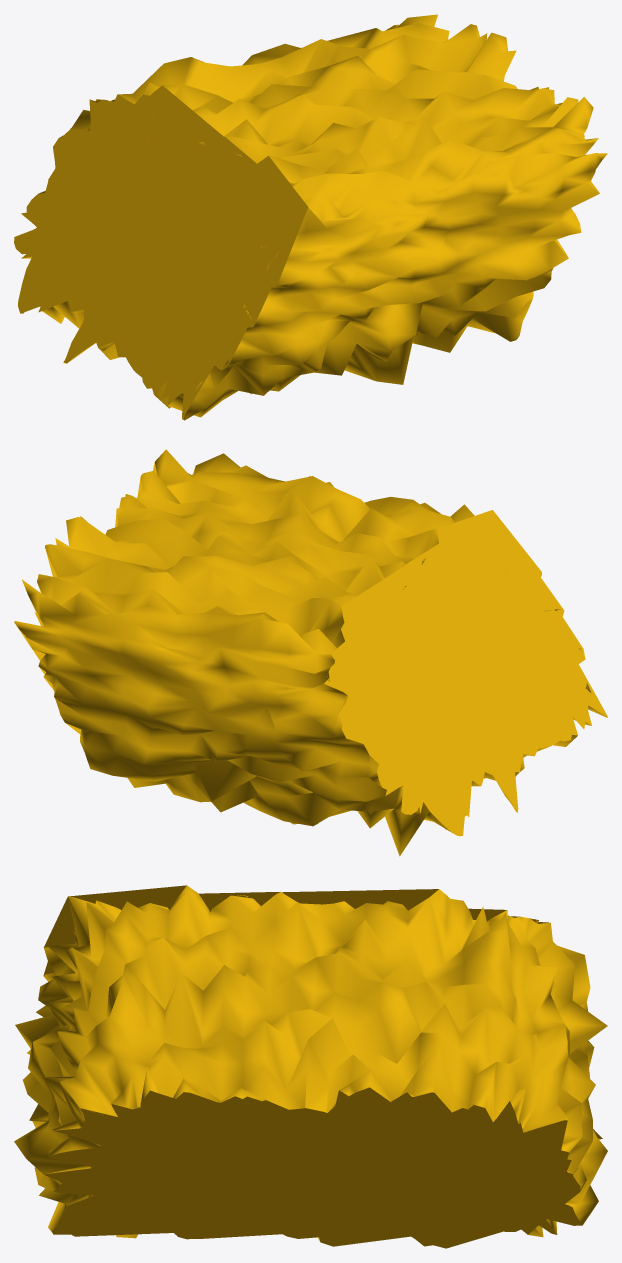
Rendered from 切ったささみ2.fbx.
The picture shows the model from 3 angles, top to bottom: view 1: azimuth 30°, elevation 25°; view 2: azimuth 150°, elevation 25°; view 3: azimuth 270°, elevation 25°; orthographic projection. The views are drawn at different scales.
Parts seen in each view (by area): view 1: 平面.007; view 2: 平面.007; view 3: 平面.007.
Boxes of the visible parts, x1,y1,x2,y2 form: 平面.007: (14, 14, 607, 420); 平面.007: (14, 449, 607, 856); 平面.007: (14, 885, 607, 1248).
Size of the model in its own units: 0.9128 by 0.4363 by 0.8403.
